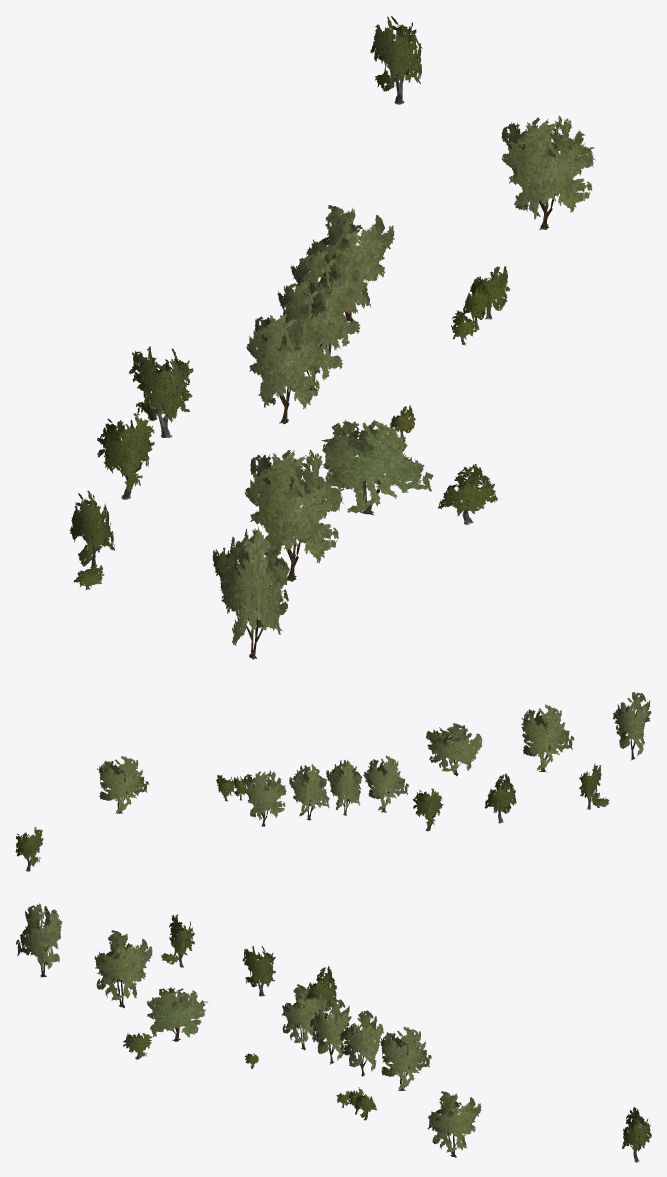
3 views of the same model, one above another, from view 1: azimuth 30°, elevation 25°; view 2: azimuth 150°, elevation 25°; view 3: azimuth 270°, elevation 25° (orthographic). The views are drawn at different scales.
Parts seen in each view (by area): view 1: jacaranda_tree street foliage, island_tree_01 street foliage, jacaranda_tree park bark, island_tree_01 park bark; view 2: jacaranda_tree street foliage, island_tree_01 street foliage, jacaranda_tree park bark, island_tree_01 park bark; view 3: jacaranda_tree street foliage, island_tree_01 street foliage, jacaranda_tree park bark, island_tree_01 park bark.
Part boxes in pixels (x1,y1,x2,y2): jacaranda_tree street foliage: [212, 115, 595, 645]; island_tree_01 street foliage: [70, 16, 510, 587]; jacaranda_tree park bark: [246, 177, 555, 659]; island_tree_01 park bark: [80, 45, 501, 589]; jacaranda_tree street foliage: [97, 692, 651, 820]; island_tree_01 street foliage: [15, 727, 609, 866]; jacaranda_tree park bark: [116, 731, 635, 826]; island_tree_01 park bark: [22, 737, 604, 871]; jacaranda_tree street foliage: [16, 903, 481, 1152]; island_tree_01 street foliage: [123, 914, 651, 1151]; jacaranda_tree park bark: [38, 946, 456, 1157]; island_tree_01 park bark: [135, 937, 639, 1162].
Size of the model in its own units: 120 by 20.6 by 155.
Materials: 4 (4 with a texture image).
